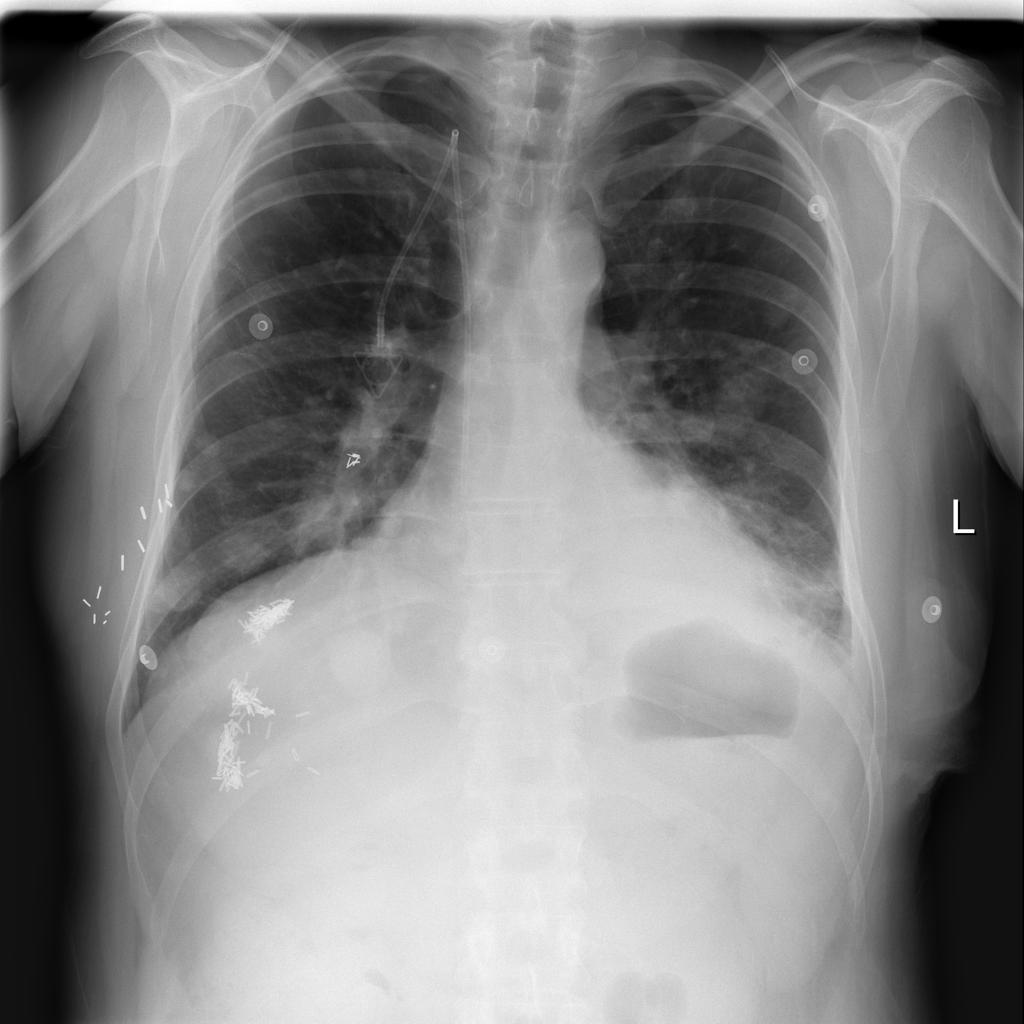nodule: (697, 360, 790, 442), (323, 620, 401, 701), (202, 516, 284, 585), (141, 548, 214, 621), (748, 265, 815, 338), (661, 176, 713, 225), (329, 151, 382, 198), (182, 420, 236, 466), (163, 456, 213, 505)
